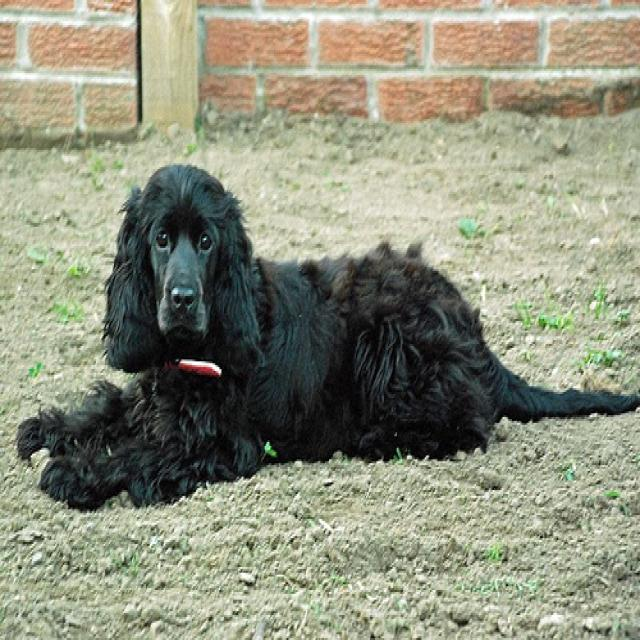dog-english_cocker_spaniel: (6, 154, 637, 511)
